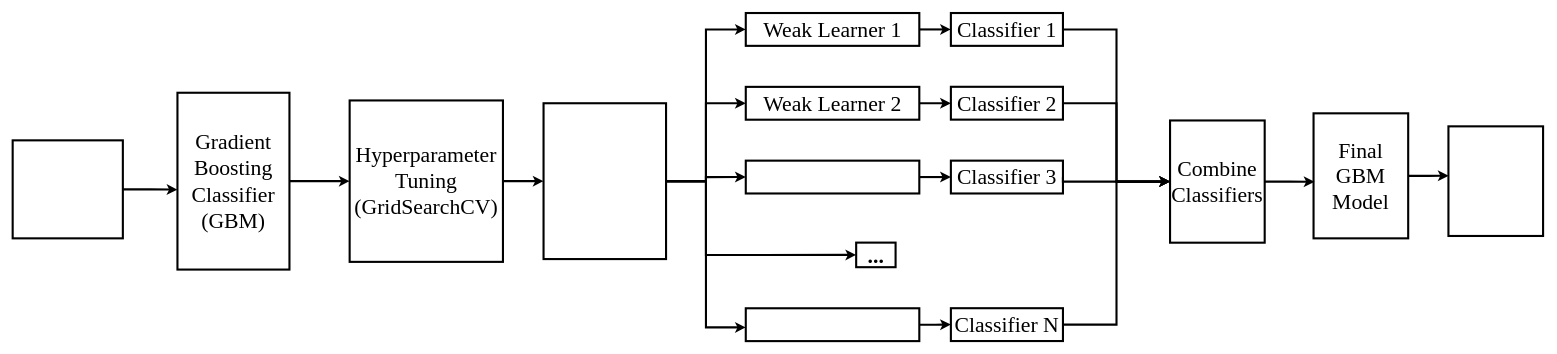
The diagram is 1557 pixels wide and 354 high, and some of its shapes have lost their labels. Each missing label, with the centre of its shape:
"Input Data" belongs at (67,189).
"Optimal GBM Model with Best Parameters" belongs at (604,181).
"Predict" belongs at (1495,181).
"Weak Learner 3" belongs at (832,176).
"Weak Learner N" belongs at (832,324).
